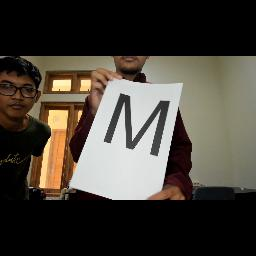m: (102, 92, 172, 160)
